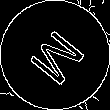M_SE: (21, 21, 89, 89)
